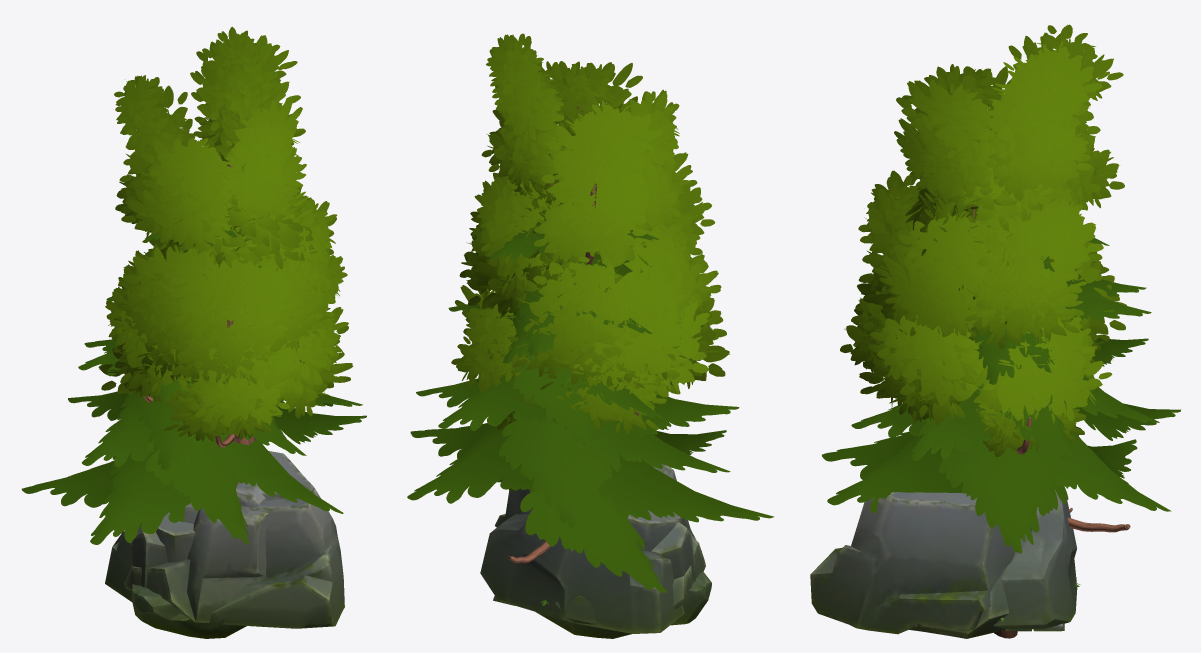
File: nature.glb
3 views of the same model, side by side, from view 1: azimuth 30°, elevation 25°; view 2: azimuth 150°, elevation 25°; view 3: azimuth 270°, elevation 25° (orthographic). The views are drawn at different scales.
Parts seen in each view (by area): view 1: CommonTree_3, Pine_2, CommonTree_1, Rock_Medium_3, CommonTree_2, Rock_Medium_1, Rock_Medium_2; view 2: Pine_2, CommonTree_3, CommonTree_1, CommonTree_2, Rock_Medium_2, Rock_Medium_3, Rock_Medium_1; view 3: CommonTree_3, Pine_2, CommonTree_2, Rock_Medium_3, CommonTree_1, Rock_Medium_2, Rock_Medium_1.
Boxes of the visible parts, x1=… form: CommonTree_3: x1=114, y1=26, x2=347, y2=391; Pine_2: x1=21, y1=228, x2=366, y2=545; CommonTree_1: x1=99, y1=193, x2=353, y2=441; Rock_Medium_3: x1=132, y1=451, x2=344, y2=638; CommonTree_2: x1=105, y1=154, x2=348, y2=447; Rock_Medium_1: x1=123, y1=482, x2=268, y2=622; Rock_Medium_2: x1=105, y1=512, x2=195, y2=601; Pine_2: x1=407, y1=202, x2=773, y2=593; CommonTree_3: x1=474, y1=33, x2=715, y2=401; CommonTree_1: x1=466, y1=173, x2=729, y2=434; CommonTree_2: x1=451, y1=125, x2=726, y2=420; Rock_Medium_2: x1=480, y1=510, x2=684, y2=633; Rock_Medium_3: x1=495, y1=488, x2=711, y2=625; Rock_Medium_1: x1=507, y1=464, x2=705, y2=638; CommonTree_3: x1=855, y1=24, x2=1124, y2=638; Pine_2: x1=822, y1=237, x2=1180, y2=553; CommonTree_2: x1=840, y1=139, x2=1112, y2=638; Rock_Medium_3: x1=810, y1=492, x2=1032, y2=634; CommonTree_1: x1=850, y1=180, x2=1126, y2=635; Rock_Medium_2: x1=993, y1=490, x2=1077, y2=629; Rock_Medium_1: x1=909, y1=530, x2=1076, y2=638.
Bounding box in the file's own units: 5.73 × 9.5 × 5.28.
9 materials, 9 textured.
